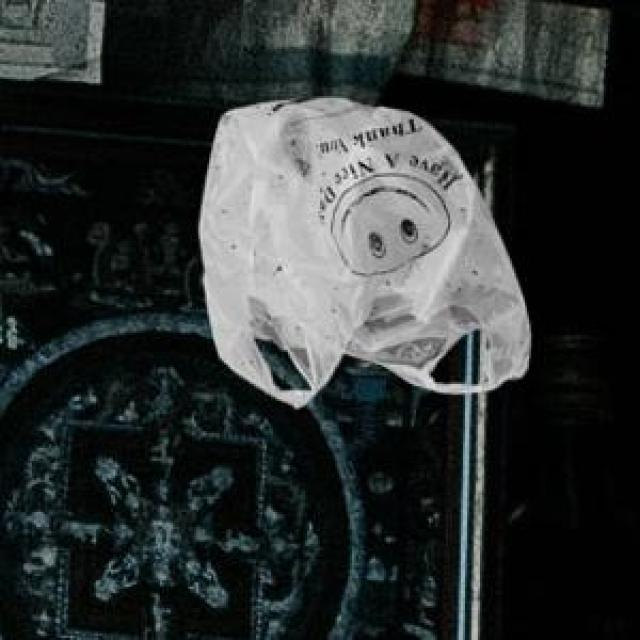plastic: (179, 80, 568, 450)
